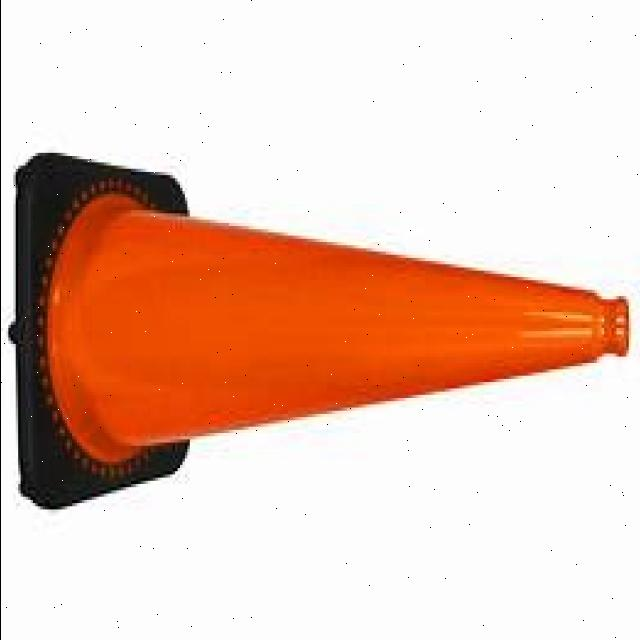traffic cone: (4, 134, 638, 524)
